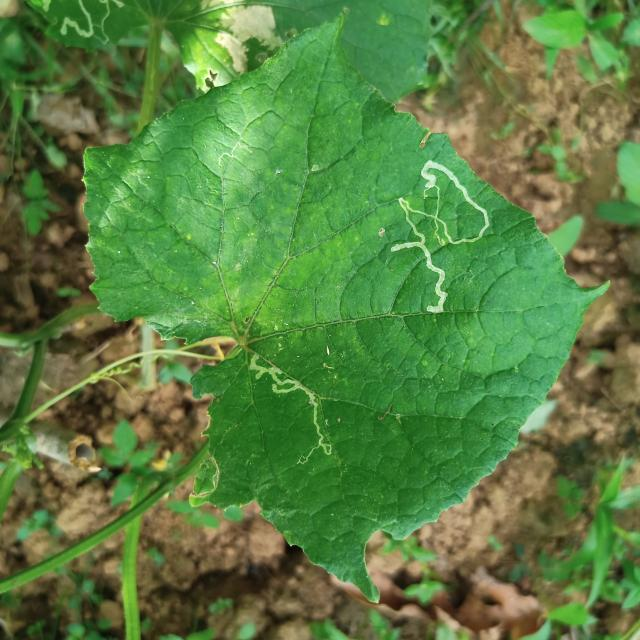disease_cucumber: (212, 2, 288, 79)
